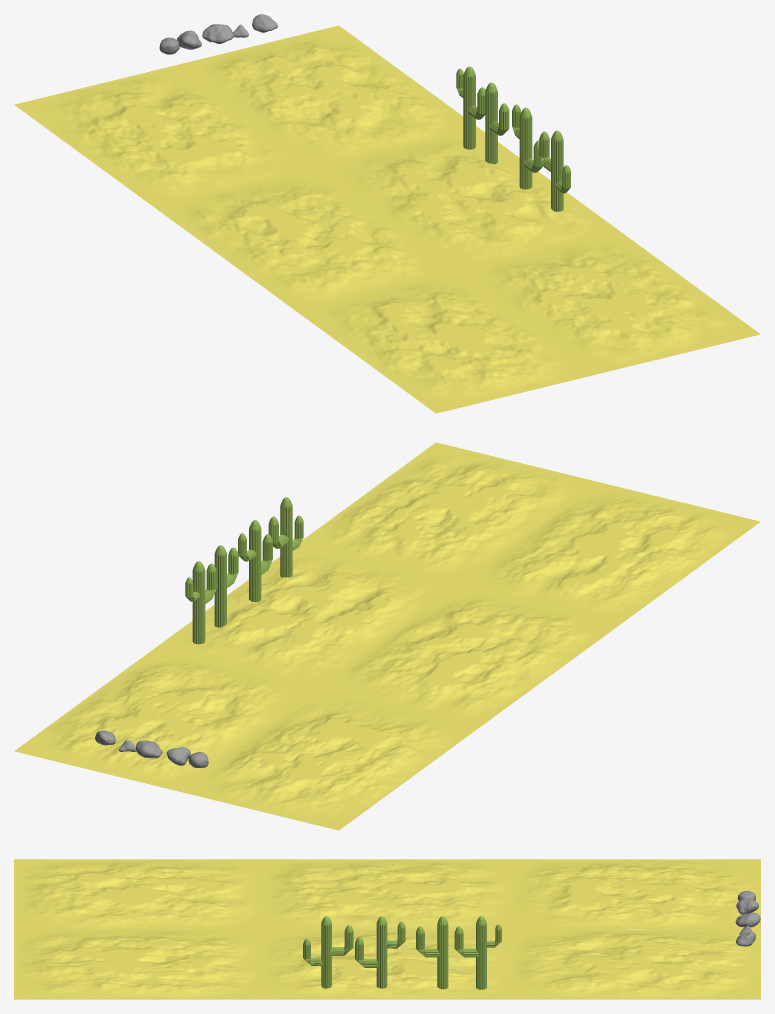
The model's file is glam.fbx.
The picture shows the model from 3 angles, top to bottom: view 1: azimuth 30°, elevation 25°; view 2: azimuth 150°, elevation 25°; view 3: azimuth 270°, elevation 25°; orthographic projection. The views are drawn at different scales.
Parts seen in each view (by area): view 1: Landscape, Landscape.001, Landscape.004, Landscape.003, Landscape.005, Landscape.002, Circle.009, Circle.006, Circle.003, Circle; view 2: Landscape.001, Landscape.003, Landscape.004, Landscape, Landscape.005, Landscape.002, Circle.006, Circle.003, Circle.009, Circle; view 3: Landscape, Landscape.001, Landscape.005, Landscape.003, Landscape.004, Landscape.002, Circle.006, Circle.009, Circle.003, Circle, rock.005, rock.003.
Part boxes in pixels (x1=…): Landscape: x1=458, y1=231, x2=760, y2=373; Landscape.001: x1=296, y1=271, x2=597, y2=413; Landscape.004: x1=14, y1=65, x2=316, y2=207; Landscape.003: x1=155, y1=168, x2=457, y2=310; Landscape.005: x1=177, y1=25, x2=479, y2=167; Landscape.002: x1=317, y1=128, x2=619, y2=270; Circle.009: x1=539, y1=130, x2=570, y2=211; Circle.006: x1=512, y1=104, x2=543, y2=189; Circle.003: x1=456, y1=66, x2=485, y2=149; Circle: x1=485, y1=82, x2=509, y2=164; Landscape.001: x1=458, y1=482, x2=760, y2=624; Landscape.003: x1=317, y1=585, x2=619, y2=727; Landscape.004: x1=177, y1=688, x2=478, y2=830; Landscape: x1=300, y1=442, x2=597, y2=584; Landscape.005: x1=14, y1=648, x2=316, y2=790; Landscape.002: x1=155, y1=546, x2=457, y2=687; Circle.006: x1=238, y1=520, x2=272, y2=602; Circle.003: x1=185, y1=561, x2=216, y2=644; Circle.009: x1=268, y1=497, x2=303, y2=577; Circle: x1=214, y1=545, x2=238, y2=627; Landscape: x1=14, y1=929, x2=262, y2=999; Landscape.001: x1=14, y1=859, x2=262, y2=929; Landscape.005: x1=512, y1=929, x2=760, y2=999; Landscape.003: x1=263, y1=859, x2=511, y2=929; Landscape.004: x1=512, y1=859, x2=760, y2=929; Landscape.002: x1=263, y1=929, x2=511, y2=999; Circle.006: x1=355, y1=916, x2=405, y2=988; Circle.009: x1=303, y1=916, x2=353, y2=988; Circle.003: x1=454, y1=916, x2=501, y2=989; Circle: x1=416, y1=916, x2=448, y2=989; rock.005: x1=735, y1=912, x2=760, y2=927; rock.003: x1=736, y1=898, x2=758, y2=914.
Size of the model in its own units: 1200 by 286 by 2700.
